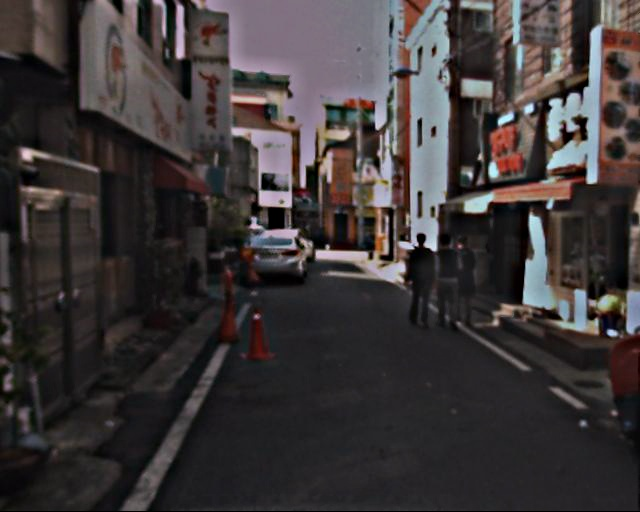person: (405, 233, 444, 328), (434, 237, 473, 332), (451, 234, 488, 325)
